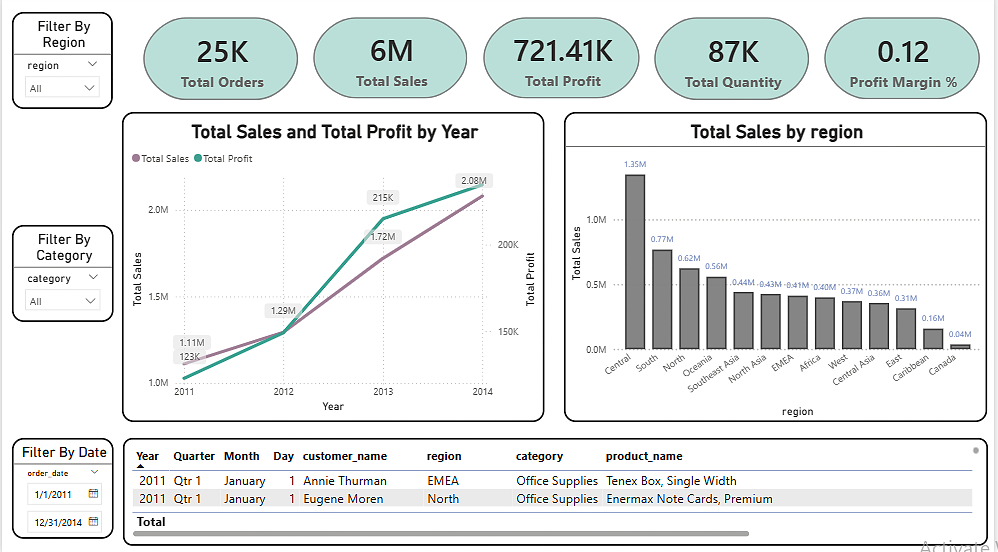

This screenshot's page, from the dashboard's own definition file:
{"tool":"powerbi","page":{"name":"Page 1","canvas":[1280,720],"ordinal":0},"visuals":[{"type":"cardVisual","title":"TOTAL ORDERS","fields":{"Data":["SuperStoreOrders.Total Orders"]},"box":[165,10,234.7,141.1],"z":0},{"type":"cardVisual","fields":{"Data":["SuperStoreOrders.Total Quantity"]},"box":[825,10,234.7,141.1],"z":1000},{"type":"cardVisual","fields":{"Data":["SuperStoreOrders.Total Sales"]},"box":[385,10,233.3,139.7],"z":2000},{"type":"cardVisual","fields":{"Data":["SuperStoreOrders.Profit Margin %"]},"box":[1044.1,10,235.9,140.5],"z":3000},{"type":"cardVisual","fields":{"Data":["SuperStoreOrders.Total Profit"]},"box":[603.6,10,236.2,139.7],"z":4000},{"type":"lineChart","fields":{"Category":["SuperStoreOrders.order_date.Variation.Date Hierarchy.Year","SuperStoreOrders.order_date.Variation.Date Hierarchy.Quarter","SuperStoreOrders.order_date.Variation.Date Hierarchy.Month","SuperStoreOrders.order_date.Variation.Date Hierarchy.Day"],"Y":["SuperStoreOrders.Total Sales"],"Y2":["SuperStoreOrders.Total Profit"]},"box":[155,150,545,400],"z":5000},{"type":"clusteredColumnChart","fields":{"Category":["SuperStoreOrders.region"],"Y":["SuperStoreOrders.Total Sales"]},"box":[725,150,545.8,400],"z":6000},{"type":"slicer","title":"Filter By Region","fields":{"Values":["SuperStoreOrders.region"]},"box":[13,20,130,125],"z":7000},{"type":"slicer","title":"Filter By Category","fields":{"Values":["SuperStoreOrders.category"]},"box":[13,295,131,125.3],"z":8000},{"type":"slicer","title":"Filter By Date","fields":{"Values":["SuperStoreOrders.order_date"]},"box":[13,570.2,131,129.6],"z":9000},{"type":"tableEx","fields":{"Values":["SuperStoreOrders.order_date.Variation.Date Hierarchy.Year","SuperStoreOrders.order_date.Variation.Date Hierarchy.Quarter","SuperStoreOrders.order_date.Variation.Date Hierarchy.Month","SuperStoreOrders.order_date.Variation.Date Hierarchy.Day","SuperStoreOrders.customer_name","SuperStoreOrders.region","SuperStoreOrders.category","SuperStoreOrders.product_name","Sum(SuperStoreOrders.sales)","Sum(SuperStoreOrders.quantity)","Sum(SuperStoreOrders.profit)"]},"box":[155.6,570,1115.6,138.9],"z":10000}]}

Visuals, with their boxes in screenshot pixels (x1, y1, x2, y2), scaled from the page's 1280x720 canvas onto the 998x552 screenshot:
"TOTAL ORDERS" cardVisual: [129,8,312,116]
cardVisual - SuperStoreOrders.Total Quantity: [643,8,826,116]
cardVisual - SuperStoreOrders.Total Sales: [300,8,482,115]
cardVisual - SuperStoreOrders.Profit Margin %: [814,8,997,115]
cardVisual - SuperStoreOrders.Total Profit: [471,8,655,115]
lineChart - SuperStoreOrders.order_date.Variation.Date Hierarchy.Year x SuperStoreOrders.order_date.Variation.Date Hierarchy.Quarter: [121,115,546,422]
clusteredColumnChart - SuperStoreOrders.region x SuperStoreOrders.Total Sales: [565,115,991,422]
"Filter By Region" slicer: [10,15,111,111]
"Filter By Category" slicer: [10,226,112,322]
"Filter By Date" slicer: [10,437,112,537]
tableEx - SuperStoreOrders.order_date.Variation.Date Hierarchy.Year x SuperStoreOrders.order_date.Variation.Date Hierarchy.Quarter: [121,437,991,543]
